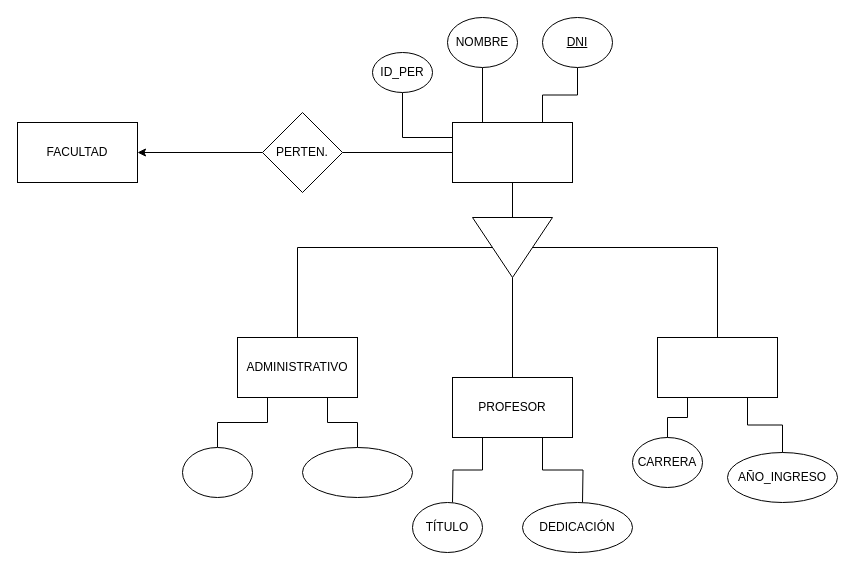
This 855x570 diagram has some shape labels left out. The shapes that lost their labels are listed below. From the top down, each one's centre as x and y in pixels, then its label:
At point (512, 152): "PERSONA".
At point (512, 247): "ES".
At point (717, 367): "ALUMNO".
At point (217, 472): "PUESTO".
At point (357, 472): "ANTIGUEDAD".
